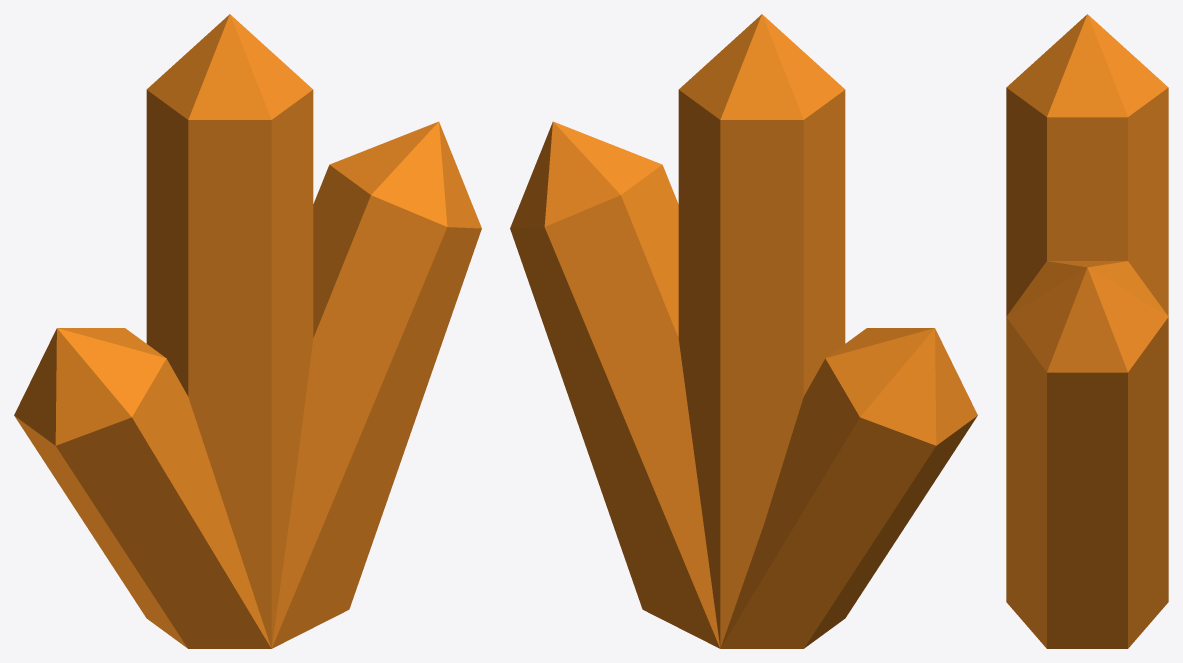
The model's file is orange_cave_crystal.obj.
3 views of the same model, side by side, from view 1: azimuth 30°, elevation 25°; view 2: azimuth 150°, elevation 25°; view 3: azimuth 270°, elevation 25° (orthographic). The views are drawn at different scales.
Visible parts, largest first — view 1: main; view 2: main; view 3: main.
Boxes of the visible parts, x1,y1,x2,y2 form: main: (14, 14, 481, 648); main: (510, 14, 977, 648); main: (1006, 14, 1168, 648).
Size of the model in its own units: 0.7381 by 1 by 0.25.
